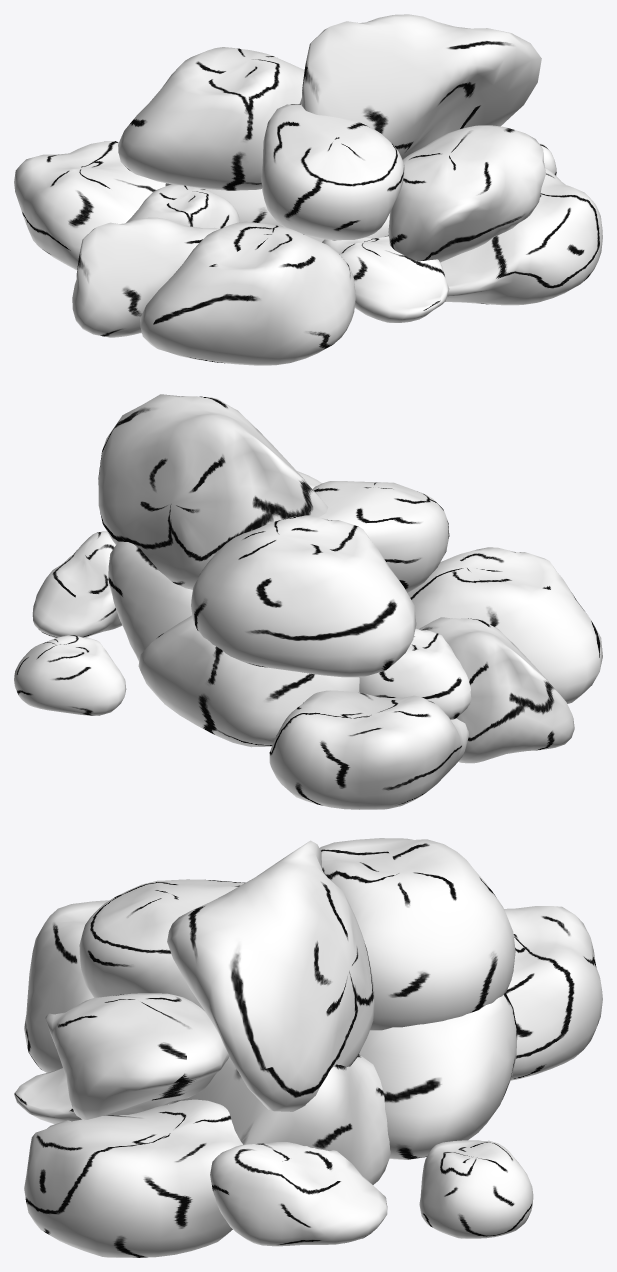
The model's file is rocks.obj.
3 renders of one model, top to bottom at view 1: azimuth 30°, elevation 25°; view 2: azimuth 150°, elevation 25°; view 3: azimuth 270°, elevation 25°, orthographic. The views are drawn at different scales.
Parts seen in each view (by area): view 1: Sphere.012; view 2: Sphere.012; view 3: Sphere.012.
Boxes of the visible parts, <box> form: Sphere.012: <box>14,14,602,365</box>; Sphere.012: <box>14,394,602,809</box>; Sphere.012: <box>14,838,602,1257</box>.
Bounding box in the file's own units: 1.45 × 0.741 × 1.15.
